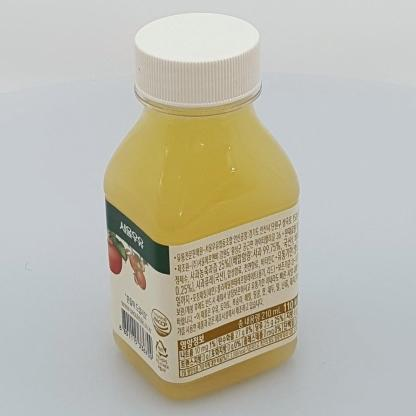-----------210ML: (103, 12, 299, 399)
